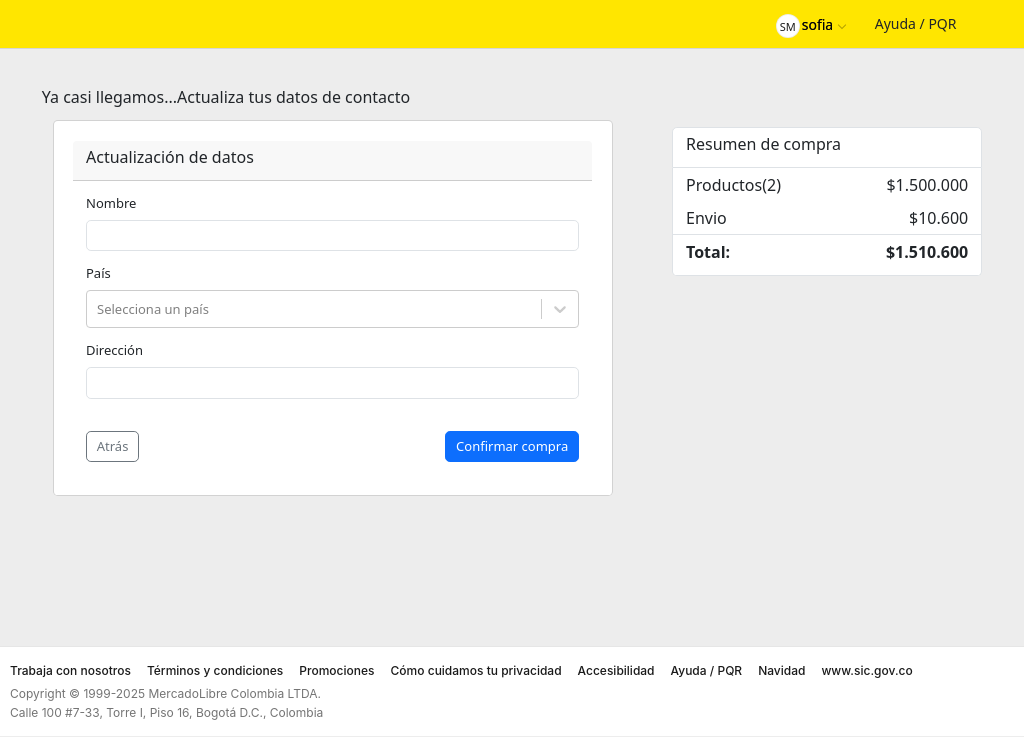
ValidationPage › muestra errores si los campos están vacíos
Click the button "Confirmar compra": (512, 447) x1=445 y1=431 x2=579 y2=462
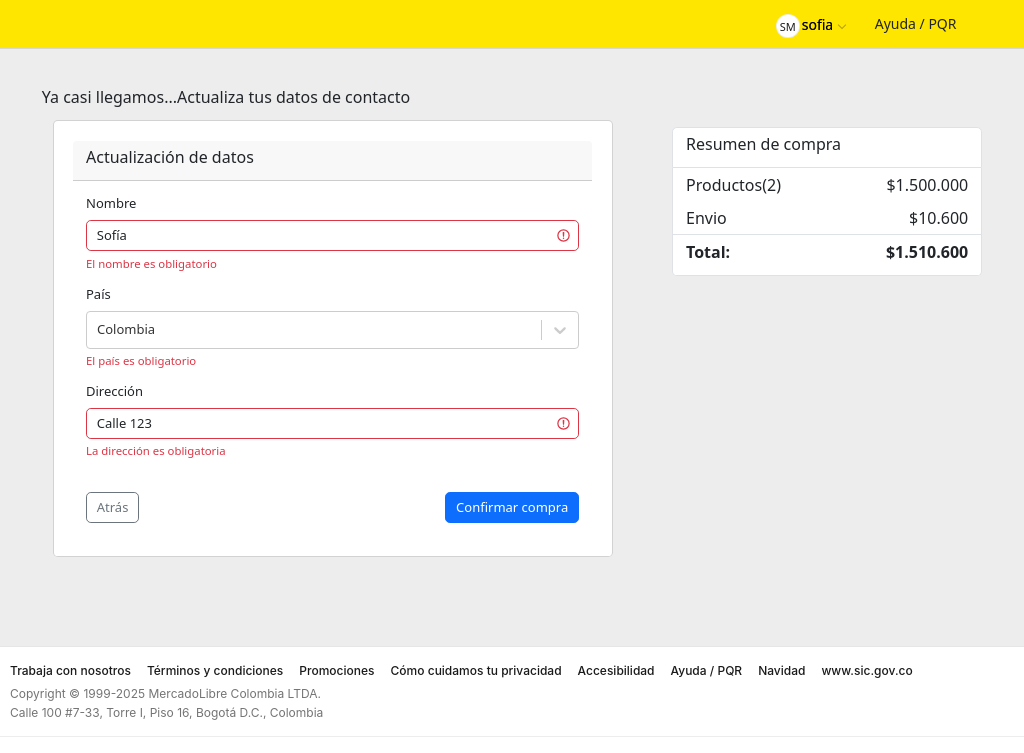
Result: the text "El nombre es obligatorio" is shown at x1=86 y1=256 x2=217 y2=270
